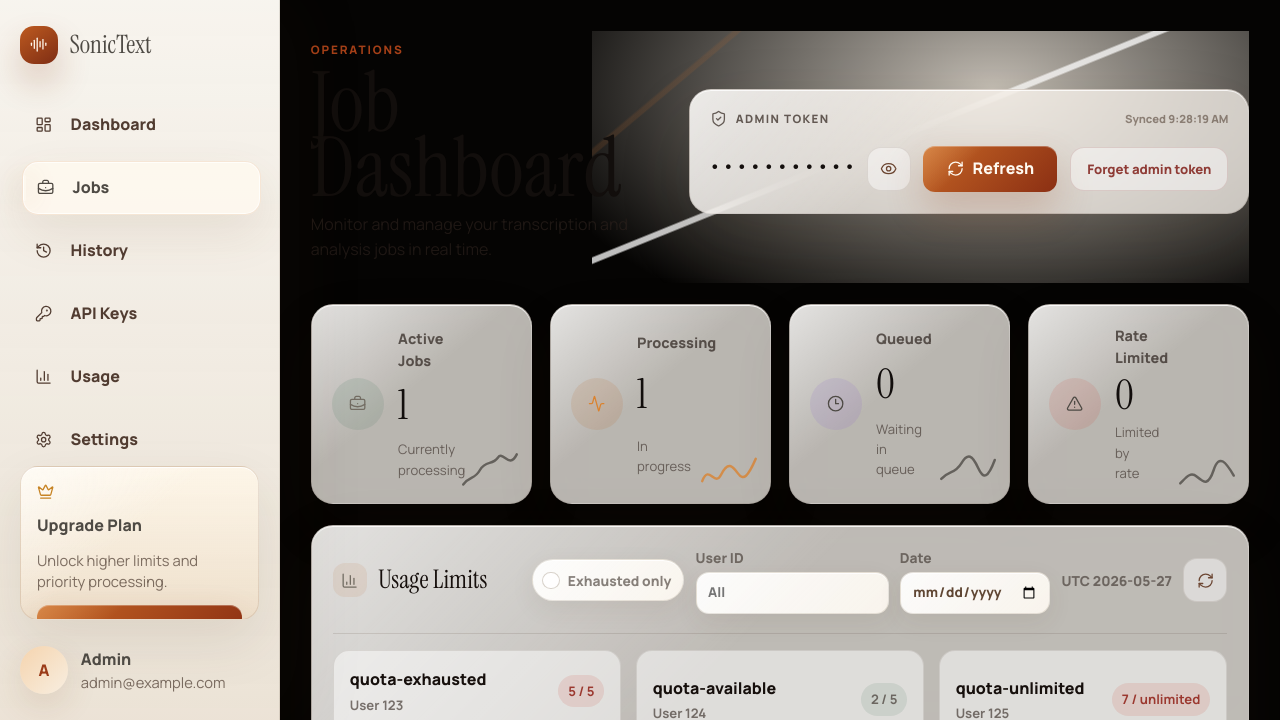
Test: AdminJobsDashboard › filters usage rows to exhausted limited users only
expect the text "quota-exhausted" is shown: met, box x1=350 y1=667 x2=486 y2=692
expect the text "quota-available" is shown: met, box x1=653 y1=676 x2=776 y2=700
Click the checkbox labelled "Exhausted only".
click(551, 580)  # box x1=542 y1=572 x2=560 y2=589
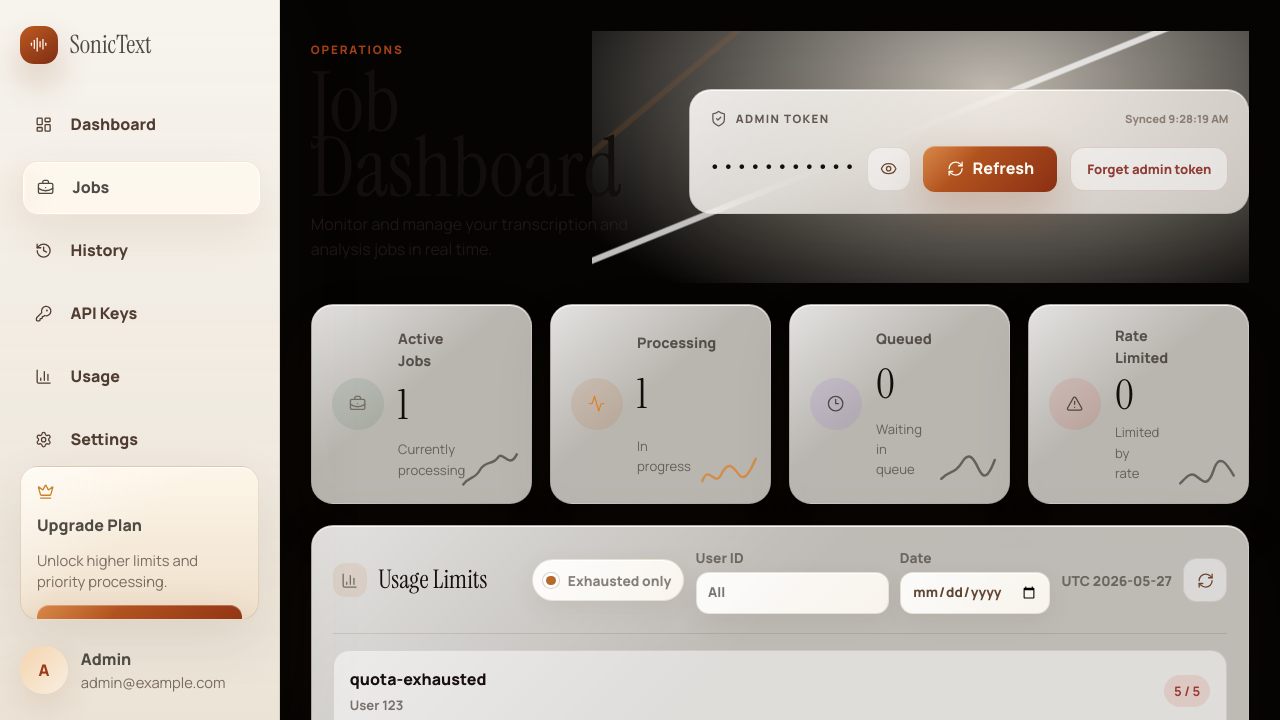
expect the text "quota-exhausted" is shown: met, box x1=350 y1=667 x2=486 y2=692
expect the text "quota-available" is gone: met
expect the text "quota-unlimited" is gone: met
